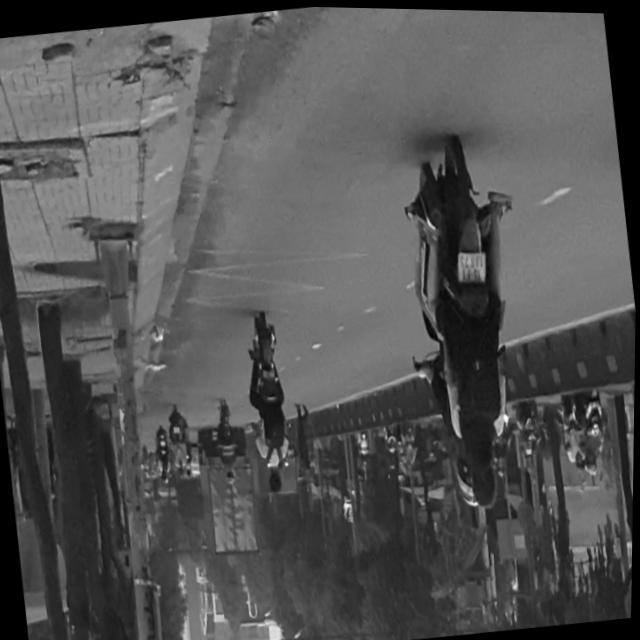helmet: (455, 446, 478, 507)
licenseplate: (391, 126, 547, 517)
motorcyclist: (467, 447, 503, 509)
nohelmet: (457, 249, 488, 283)
